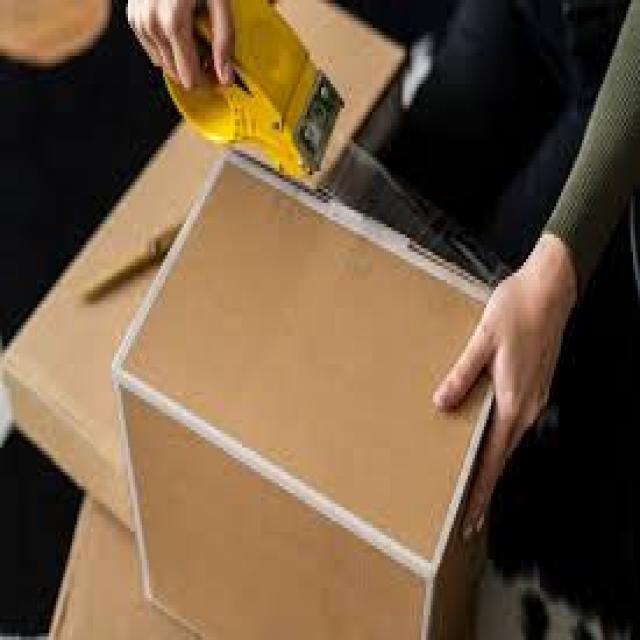Kardus kondisi bagus: (117, 144, 539, 640)
